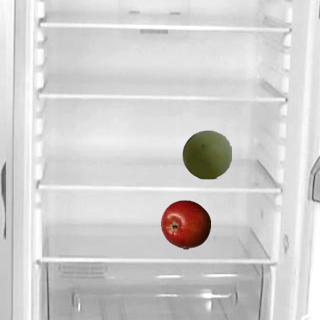Apple Braeburn: (160, 199, 210, 249)
Grape White 4: (181, 129, 231, 179)
